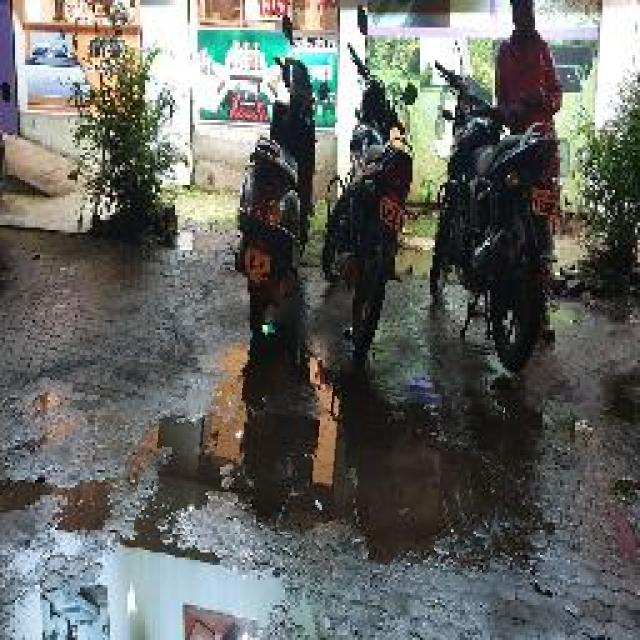puddle: (137, 378, 501, 566), (1, 535, 293, 640)
